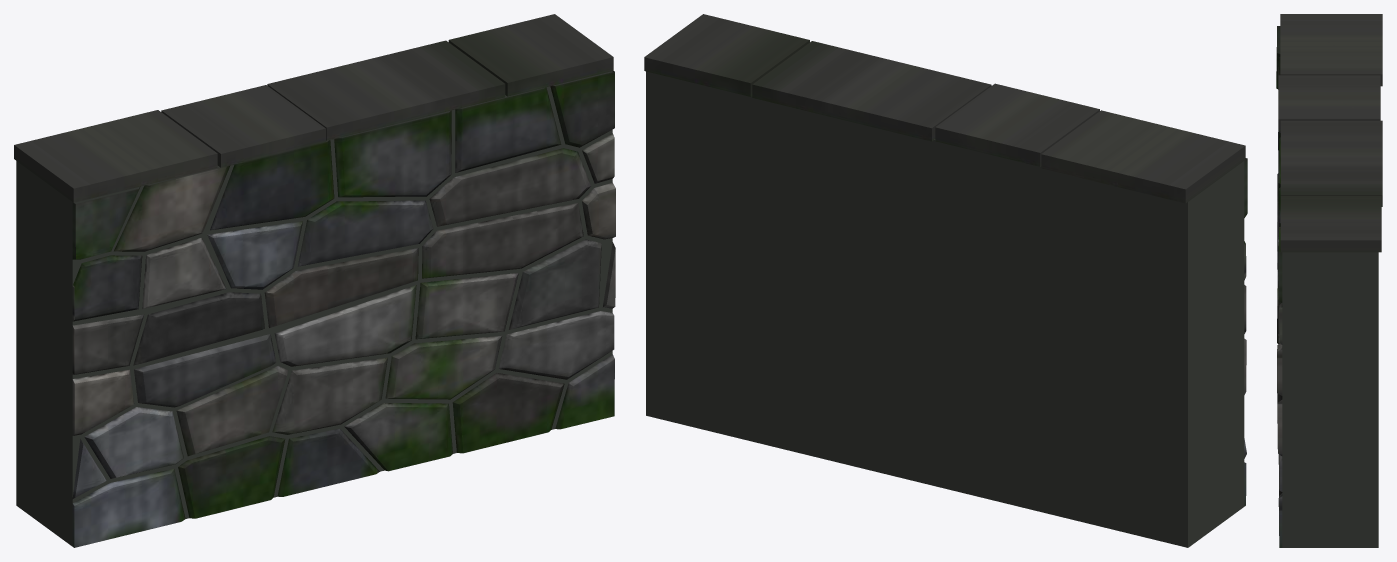
File: stone-retaining-wall-c.glb
3 renders of one model, left to right at view 1: azimuth 30°, elevation 25°; view 2: azimuth 150°, elevation 25°; view 3: azimuth 270°, elevation 25°, orthographic. The views are drawn at different scales.
Parts seen in each view (by area): view 1: stone-retaining-wall-c; view 2: stone-retaining-wall-c; view 3: stone-retaining-wall-c.
Part boxes in pixels (x1=…): stone-retaining-wall-c: x1=14, y1=14, x2=615, y2=547; stone-retaining-wall-c: x1=644, y1=14, x2=1247, y2=547; stone-retaining-wall-c: x1=1276, y1=14, x2=1382, y2=547.
Bounding box in the file's own units: 4 × 2.54 × 0.796.
2 materials, 1 textured.
